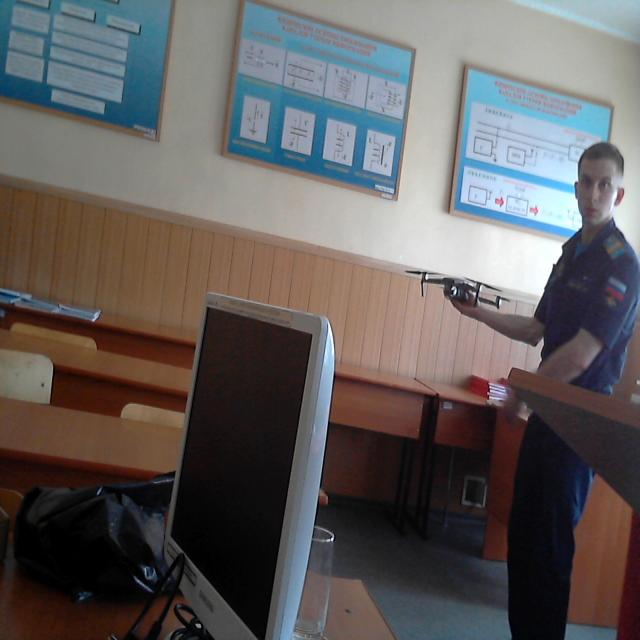drone: (414, 251, 514, 326)
